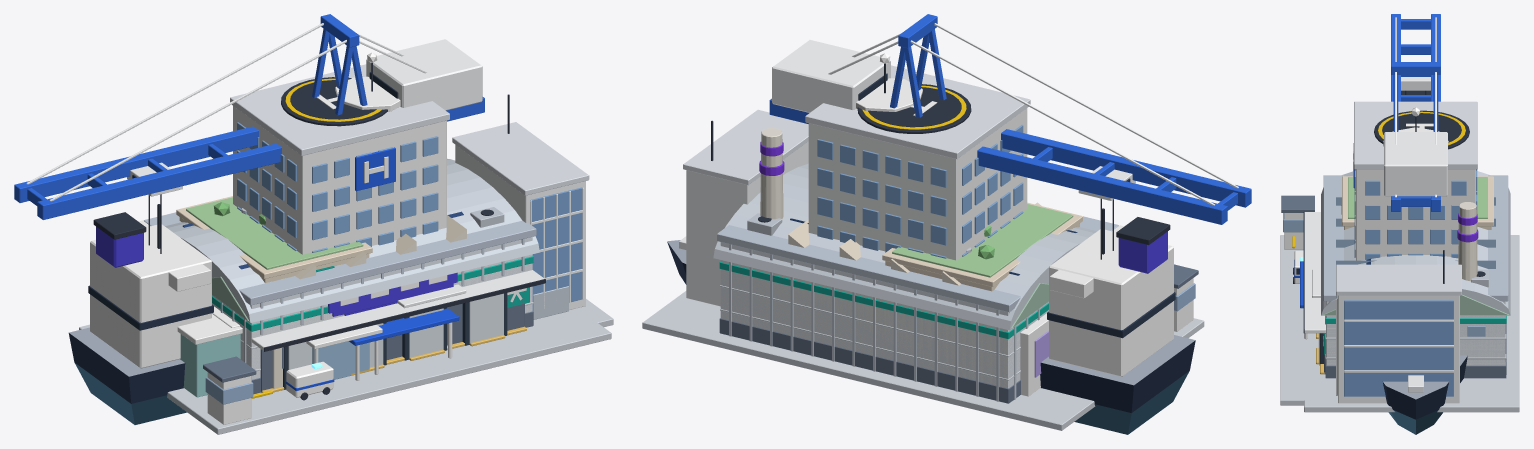
File: supplyshock.glb
3 renders of one model, left to right at view 1: azimuth 30°, elevation 25°; view 2: azimuth 150°, elevation 25°; view 3: azimuth 270°, elevation 25°, orthographic. The views are drawn at different scales.
Parts seen in each view (by area): view 1: hospital_tower, hub_central, hub_north, port_crane, ship_hull, hub_south, hospital_campus, factory, port_tower; view 2: hub_central, hospital_tower, ship_hull, port_crane, hub_north, hub_south, hospital_campus, factory, port_tower; view 3: hub_central, hospital_tower, hub_north, port_crane, hub_south, ship_hull, factory, hospital_campus.
Part boxes in pixels (left/top/right/bottom): hospital_tower: left=230, top=64, right=533, bottom=405; hub_central: left=143, top=94, right=613, bottom=405; hub_north: left=165, top=158, right=609, bottom=412; port_crane: left=14, top=14, right=484, bottom=253; ship_hull: left=68, top=204, right=213, bottom=424; hub_south: left=79, top=275, right=611, bottom=434; hospital_campus: left=176, top=196, right=382, bottom=379; factory: left=212, top=208, right=466, bottom=406; port_tower: left=335, top=52, right=400, bottom=111; hub_central: left=642, top=109, right=1118, bottom=417; hospital_tower: left=741, top=65, right=1030, bottom=398; ship_hull: left=667, top=208, right=1195, bottom=434; port_crane: left=769, top=14, right=1251, bottom=259; hub_north: left=646, top=163, right=1176, bottom=428; hub_south: left=676, top=260, right=1204, bottom=430; hospital_campus: left=882, top=202, right=1082, bottom=291; factory: left=759, top=128, right=1048, bottom=410; port_tower: left=856, top=53, right=922, bottom=111; hub_central: left=1303, top=175, right=1519, bottom=412; hospital_tower: left=1288, top=101, right=1507, bottom=369; hub_north: left=1304, top=171, right=1519, bottom=405; port_crane: left=1384, top=14, right=1447, bottom=211; hub_south: left=1280, top=195, right=1519, bottom=405; ship_hull: left=1383, top=90, right=1467, bottom=434; factory: left=1312, top=197, right=1495, bottom=388; hospital_campus: left=1341, top=176, right=1493, bottom=229.
Size of the model in its own units: 27.7 by 15.6 by 12.
